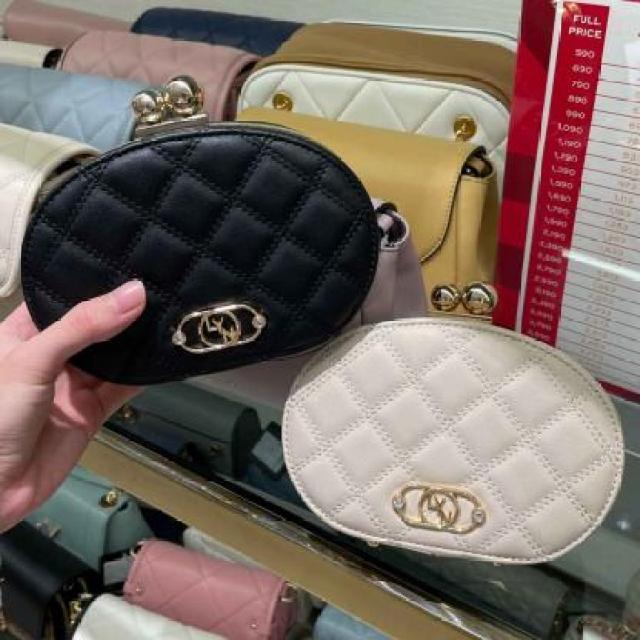Bag: (0, 77, 385, 386), (270, 293, 624, 565)
